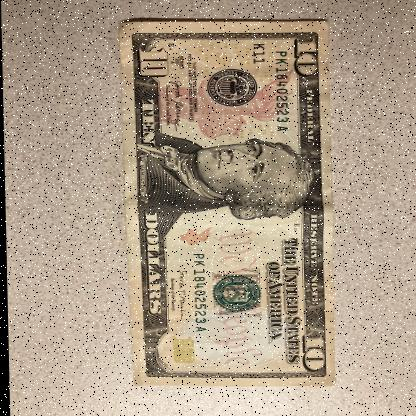ten-front: (116, 19, 336, 388)
